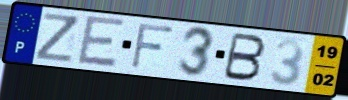3: (176, 24, 216, 81), (269, 36, 307, 87)
B: (221, 31, 268, 83)
E: (75, 13, 127, 69)
F: (129, 22, 177, 71)
Z: (35, 11, 81, 65)
